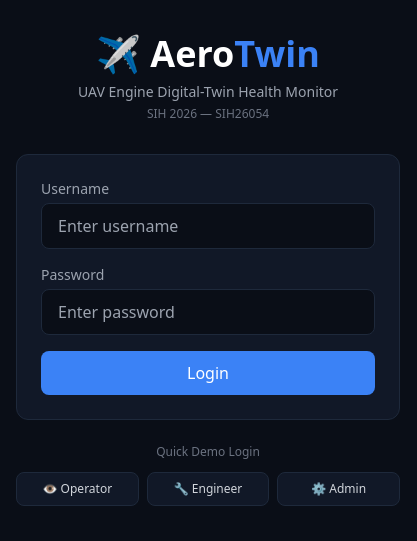
Test: LoginPage › clears an earlier error on the next attempt
This screenshot has width=417, height=541.
Click the button "Login": click(208, 373) [41,351,375,395]
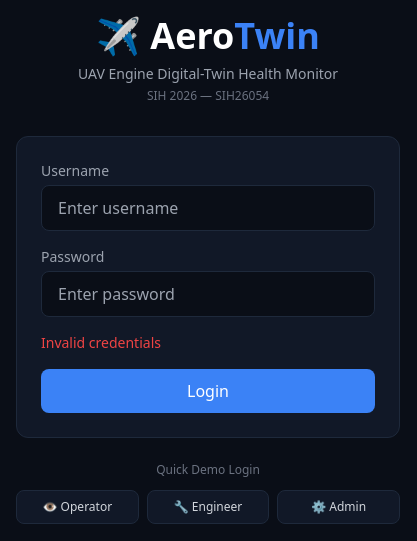
Expected: the text "Invalid credentials" is shown, [41,333,161,352]
Click the button "Login": click(208, 391) [41,369,375,413]
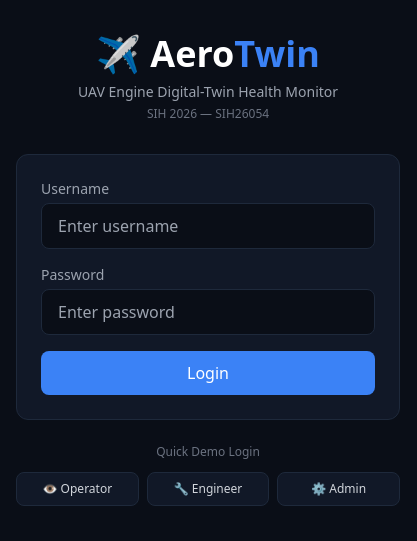
Expected: the text "Invalid credentials" is gone
